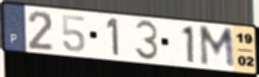1: (105, 17, 122, 58), (180, 25, 196, 65)
2: (26, 9, 56, 52)
3: (133, 19, 160, 63)
5: (61, 13, 87, 53)
M: (197, 25, 237, 71)
